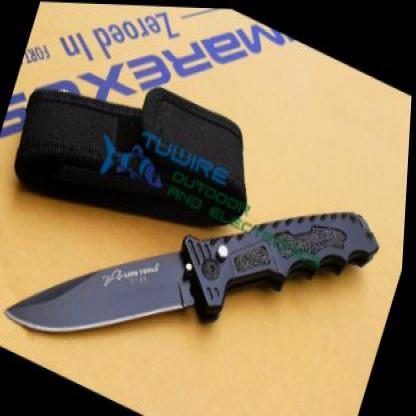knife: (0, 178, 214, 398)
